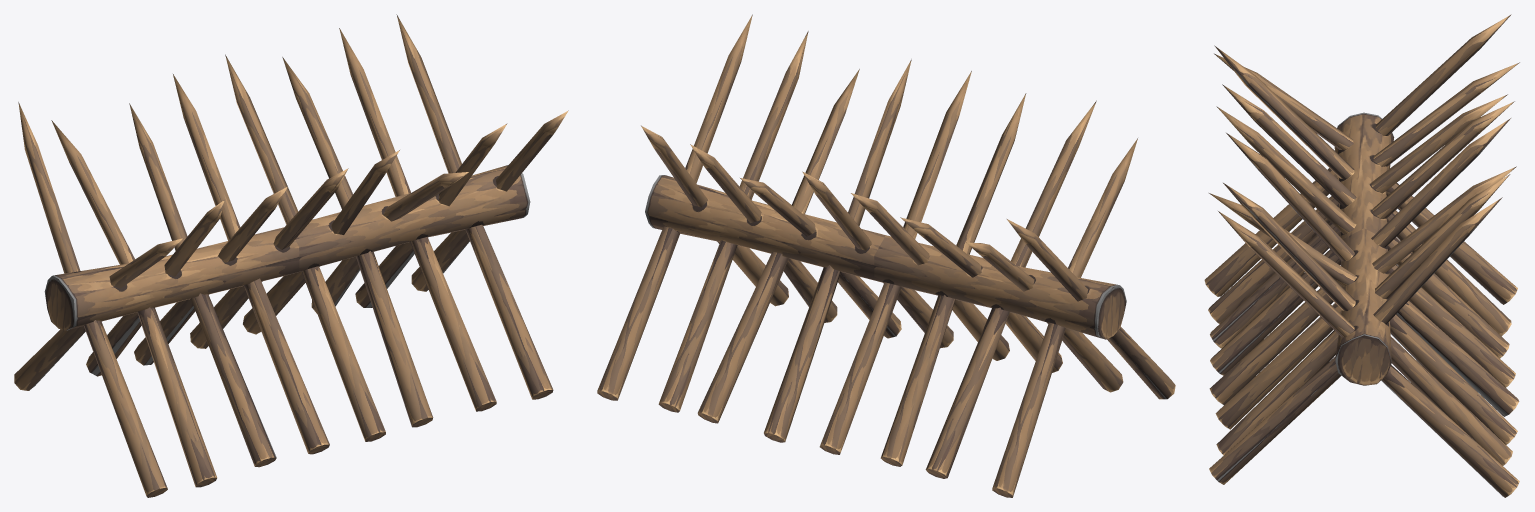
File: spikeFence.glb
The picture shows the model from 3 angles, left to right: view 1: azimuth 30°, elevation 25°; view 2: azimuth 150°, elevation 25°; view 3: azimuth 270°, elevation 25°; orthographic projection.
Parts seen in each view (by area): view 1: SpikFense; view 2: SpikFense; view 3: SpikFense.
Part boxes in pixels (bbox=[...]): SpikFense: bbox=[14, 14, 568, 497]; SpikFense: bbox=[597, 14, 1175, 497]; SpikFense: bbox=[1204, 14, 1519, 497].
Size of the model in its own units: 4.62 by 2.79 by 2.75.
Materials: 1 (1 with a texture image).
